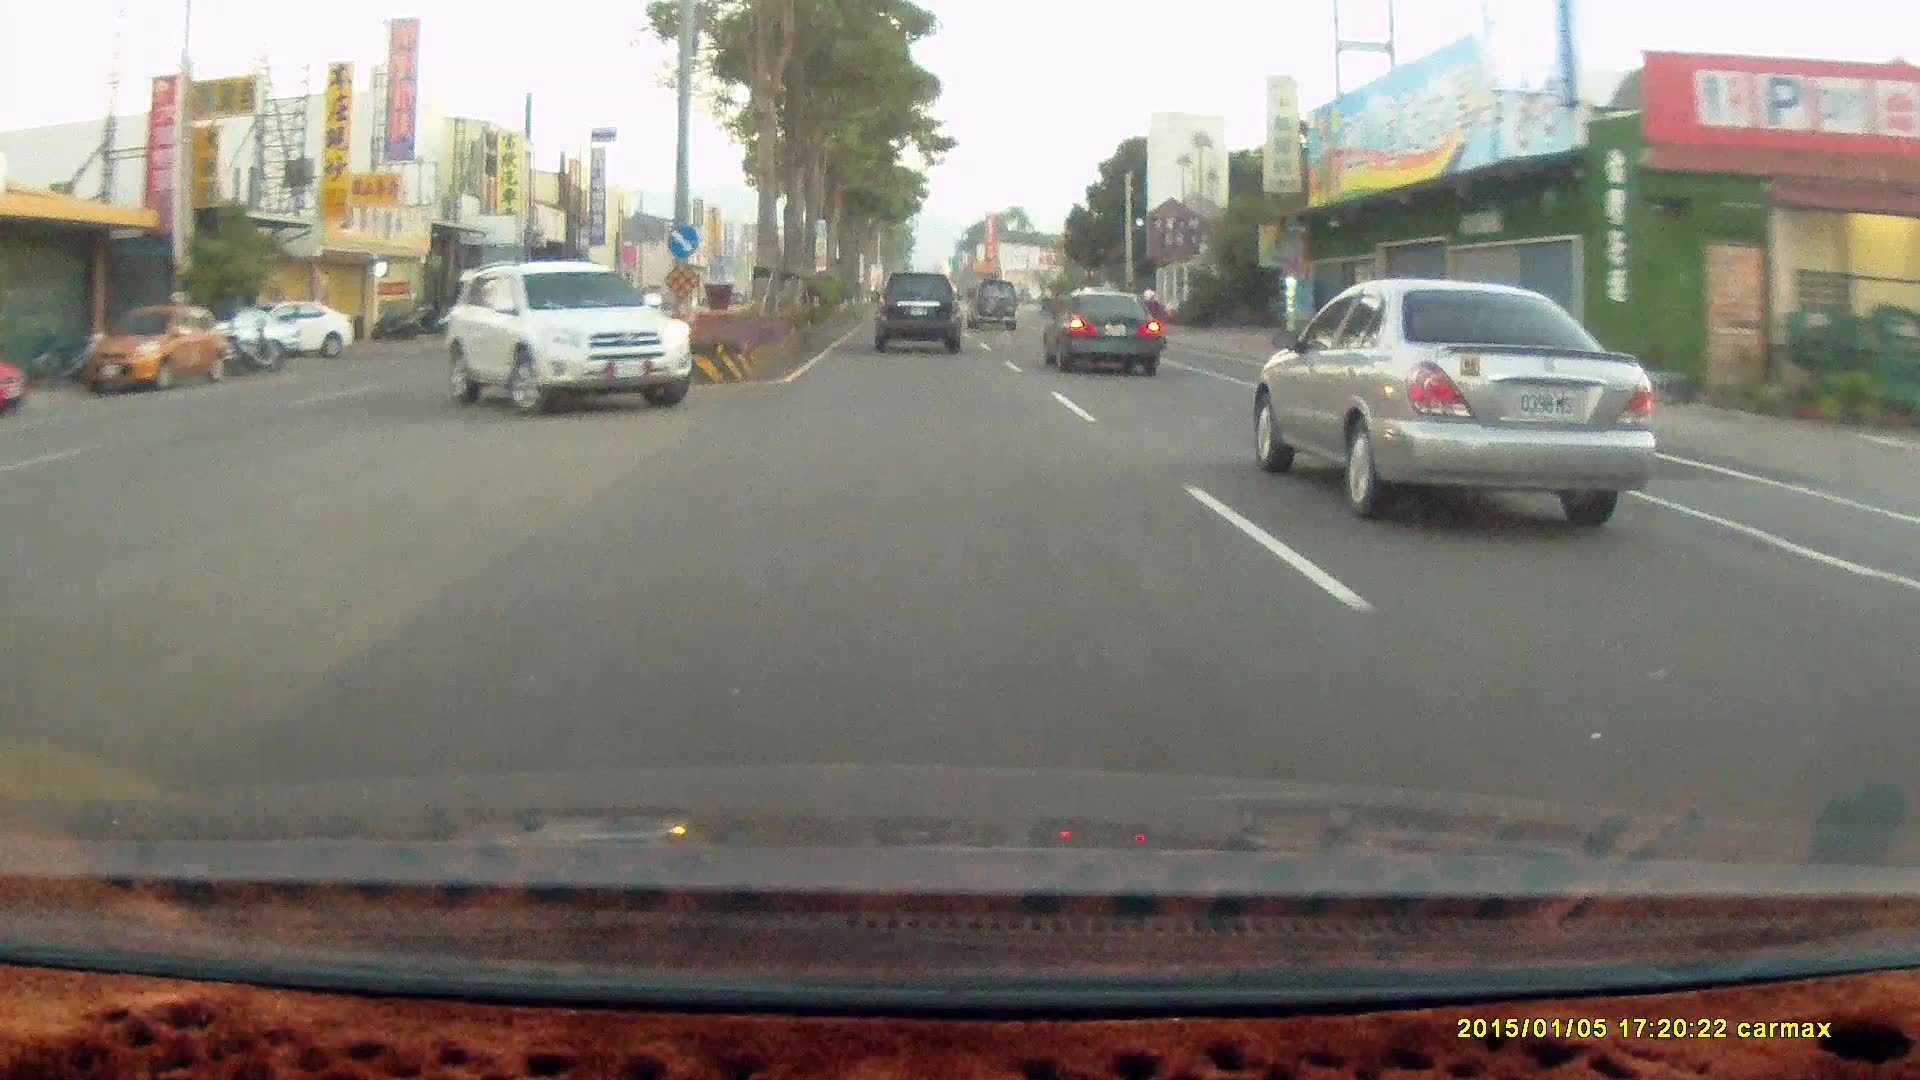vehicle: (1257, 277, 1659, 522), (443, 258, 695, 411), (443, 262, 695, 413), (66, 305, 228, 400), (79, 303, 231, 393), (1039, 287, 1159, 376), (1048, 295, 1164, 381), (872, 272, 967, 359), (233, 301, 353, 363), (233, 302, 353, 363), (874, 273, 960, 352), (968, 281, 1022, 334), (967, 278, 1018, 330)
